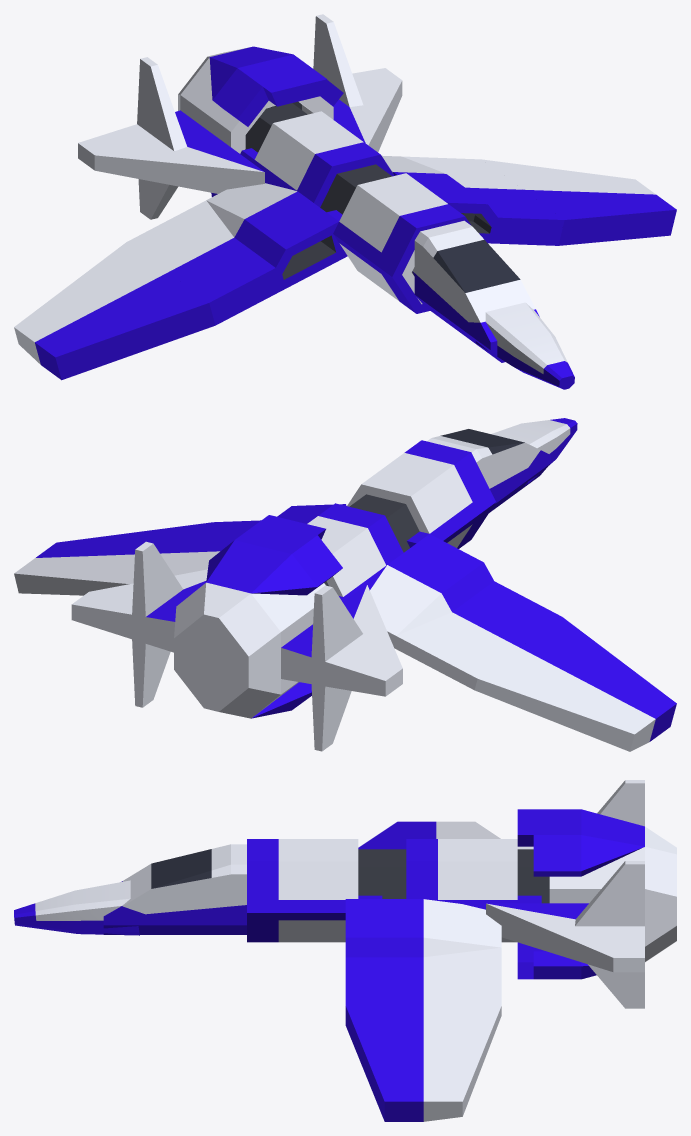
3 views of the same model, one above another, from view 1: azimuth 30°, elevation 25°; view 2: azimuth 150°, elevation 25°; view 3: azimuth 270°, elevation 25° (orthographic). The views are drawn at different scales.
Visible parts, largest first — view 1: mergedBlocks; view 2: mergedBlocks; view 3: mergedBlocks.
Boxes of the visible parts, left/top/right/bottom form: mergedBlocks: left=14, top=14, right=676, bottom=389; mergedBlocks: left=14, top=418, right=676, bottom=751; mergedBlocks: left=14, top=780, right=676, bottom=1121.
Size of the model in its own units: 41.98 by 11.35 by 41.62.
